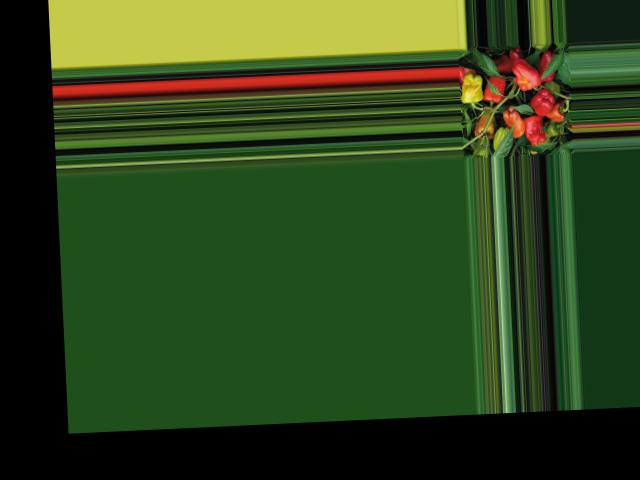bell_pepper: (547, 107, 567, 122)
